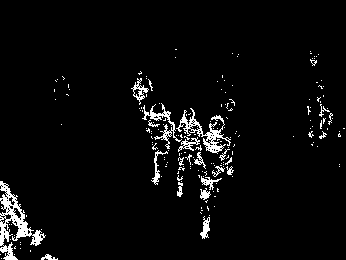person: (195, 115, 235, 242), (173, 106, 205, 197), (145, 102, 175, 187)
